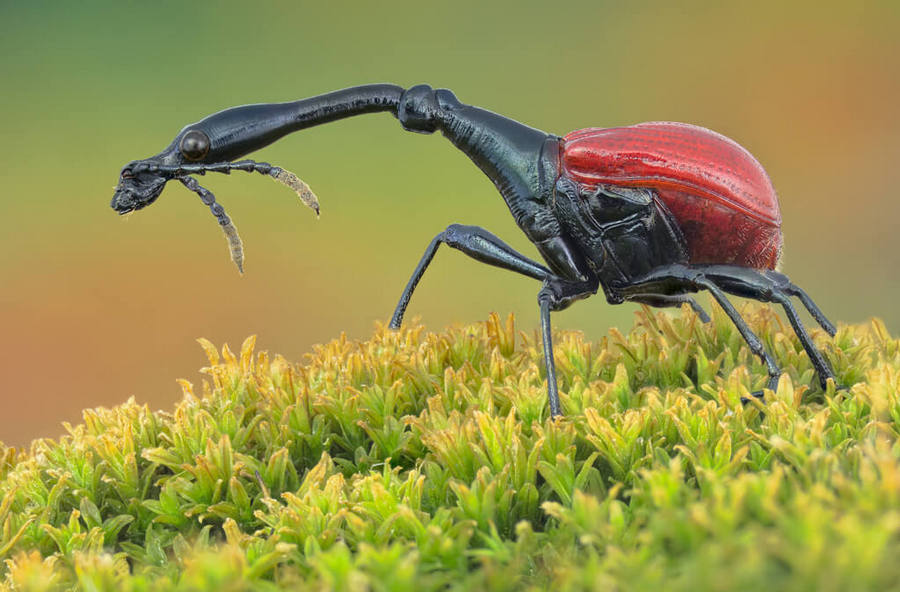dolgonosik: (85, 72, 866, 435)
